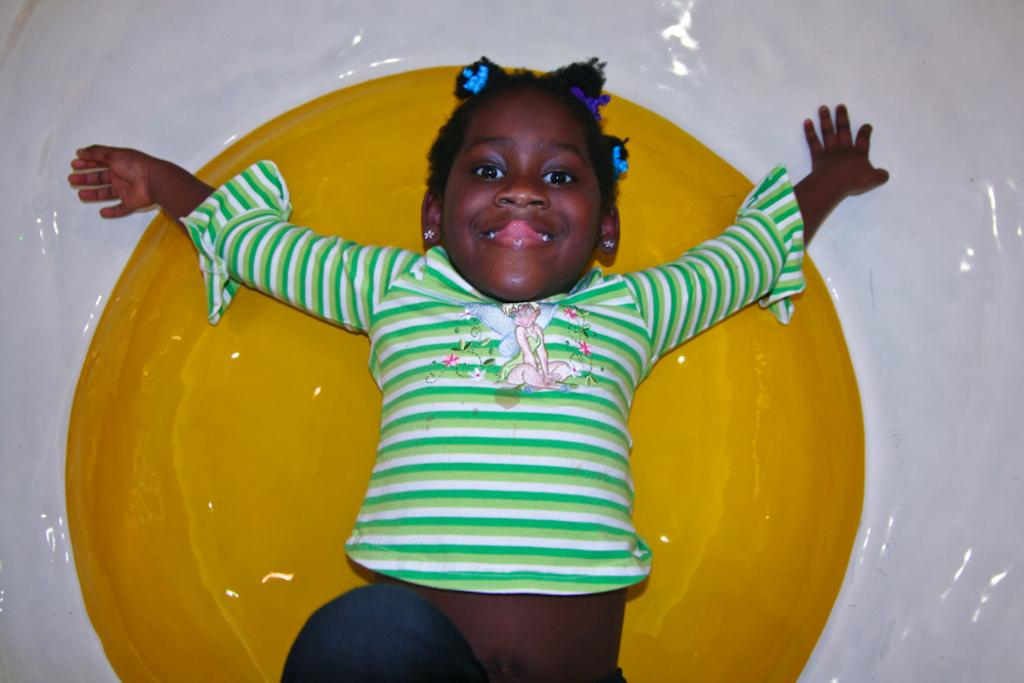Sem Máscara: (431, 82, 607, 293)
